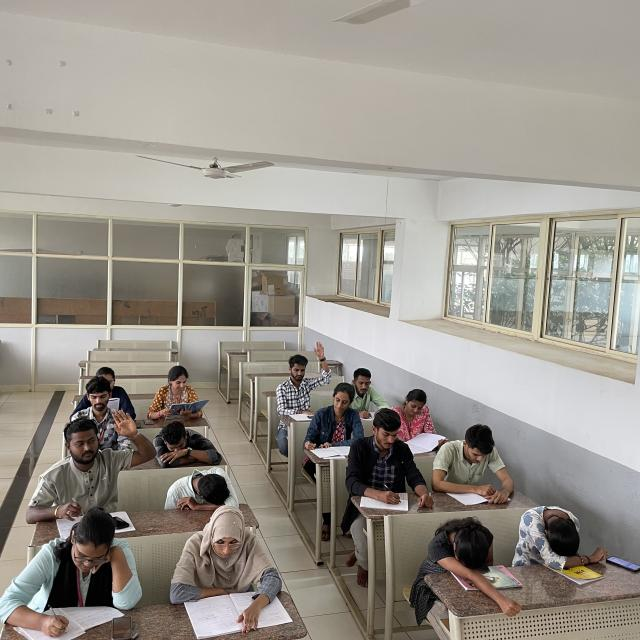Hand Rising: (50, 407, 157, 507), (277, 338, 335, 410)
Reading: (165, 502, 282, 624), (436, 427, 525, 509), (394, 386, 452, 454), (146, 364, 211, 422)
Sleeping: (514, 493, 606, 563), (420, 513, 501, 575), (159, 463, 247, 514), (154, 420, 230, 468)
Writing: (5, 515, 146, 640), (344, 415, 414, 517), (305, 384, 362, 459), (346, 366, 386, 420)
